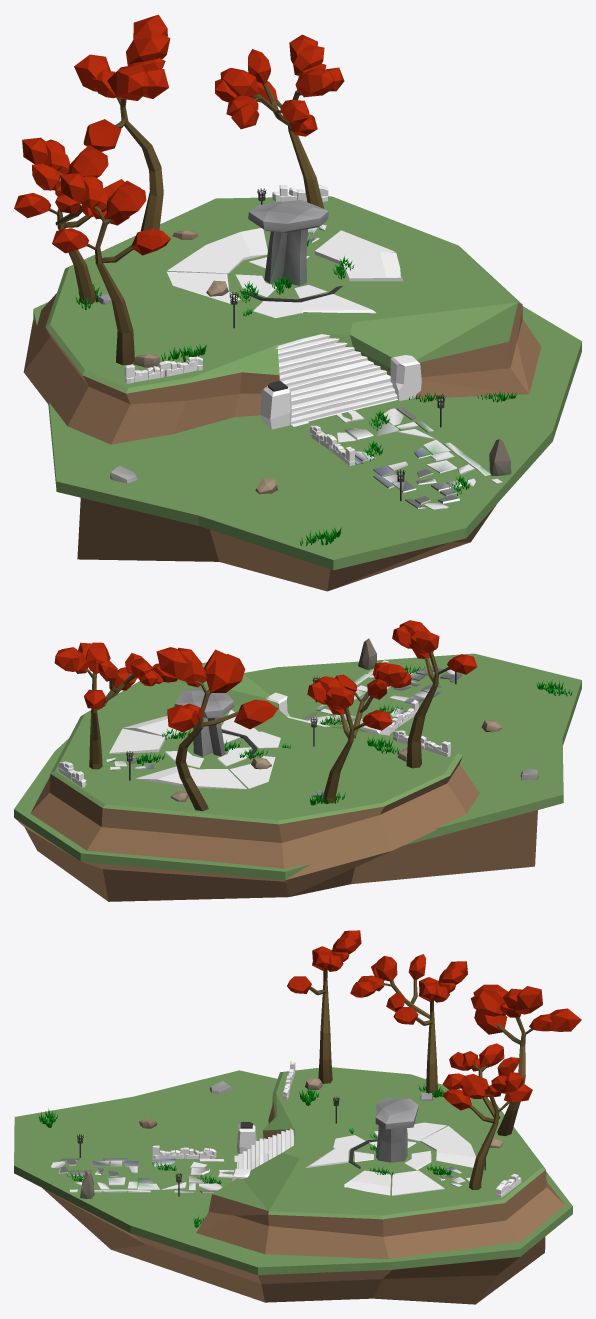
Rendered from SM_00 Sanctuary b.fbx.
3 views of the same model, one above another, from view 1: azimuth 30°, elevation 25°; view 2: azimuth 150°, elevation 25°; view 3: azimuth 270°, elevation 25° (orthographic). The views are drawn at different scales.
Visible parts, largest first — view 1: Island04.001, Santuary_stones.001, Stairs.002, red_tree.005, red_tree.003, red_tree.004, red_tree01.001, STREETStones.001, sanctuary_dolmen.001, Sanctuary02.001, StonesSquare.003, StonesSquare.002 (+2 smaller); view 2: Island04.001, red_tree.005, Santuary_stones.001, red_tree01.001, red_tree.003, red_tree.004, sanctuary_dolmen.001, STREETStones.001, Sanctuary02.001, WALL02.002, Stone_01.001, WALL01.002 (+1 smaller); view 3: Island04.001, red_tree.003, Santuary_stones.001, red_tree01.001, red_tree.005, red_tree.004, STREETStones.001, sanctuary_dolmen.001, Stairs.002, Sanctuary02.001, WALL02.001, StonesSquare.003.
Boxes of the visible parts, x1,y1,x2,y2 form: Island04.001: (23, 196, 581, 591); Santuary_stones.001: (166, 228, 403, 318); Stairs.002: (275, 334, 397, 426); red_tree.005: (74, 14, 170, 231); red_tree.003: (215, 34, 344, 208); red_tree.004: (52, 173, 170, 365); red_tree01.001: (14, 137, 129, 304); STREETStones.001: (321, 407, 502, 510); sanctuary_dolmen.001: (248, 200, 328, 285); Sanctuary02.001: (235, 256, 342, 302); StonesSquare.003: (260, 381, 291, 429); StonesSquare.002: (390, 355, 421, 400); Island04.001: (14, 653, 581, 901); red_tree.005: (156, 647, 277, 811); Santuary_stones.001: (109, 710, 280, 789); red_tree01.001: (307, 662, 411, 803); red_tree.003: (54, 642, 177, 769); red_tree.004: (392, 620, 477, 768); sanctuary_dolmen.001: (174, 688, 234, 756); STREETStones.001: (302, 660, 462, 728); Sanctuary02.001: (165, 730, 257, 767); WALL02.002: (393, 730, 450, 757); Stone_01.001: (358, 638, 376, 669); WALL01.002: (58, 761, 86, 787); Island04.001: (14, 1067, 572, 1304); red_tree.003: (442, 1043, 532, 1189); Santuary_stones.001: (306, 1122, 475, 1195); red_tree01.001: (350, 954, 467, 1095); red_tree.005: (470, 984, 581, 1136); red_tree.004: (287, 930, 361, 1083); STREETStones.001: (51, 1158, 234, 1192); sanctuary_dolmen.001: (375, 1097, 418, 1162); Stairs.002: (234, 1128, 293, 1169); Sanctuary02.001: (349, 1139, 431, 1170); WALL02.001: (152, 1145, 216, 1158); StonesSquare.003: (237, 1122, 256, 1155).
Size of the model in its own units: 2050 by 1379 by 2497.
